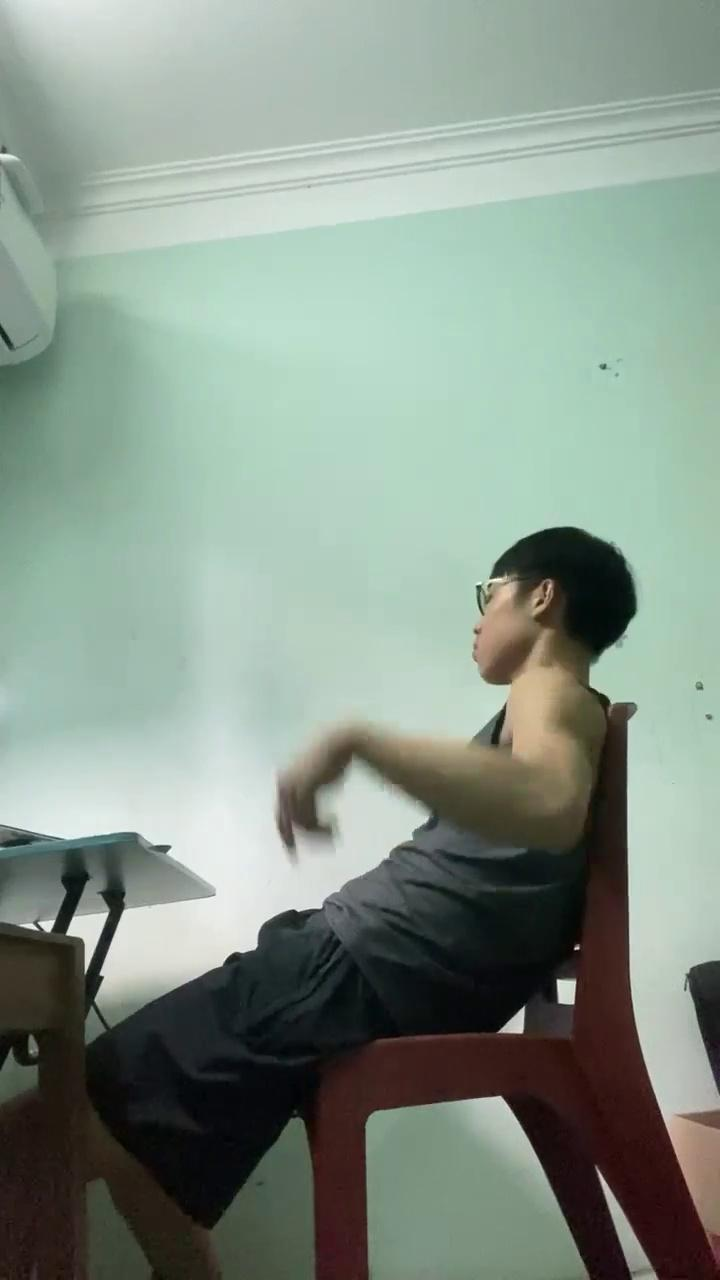BadPosture: (14, 534, 631, 1254)
